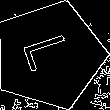L_E: (19, 32, 80, 78)
